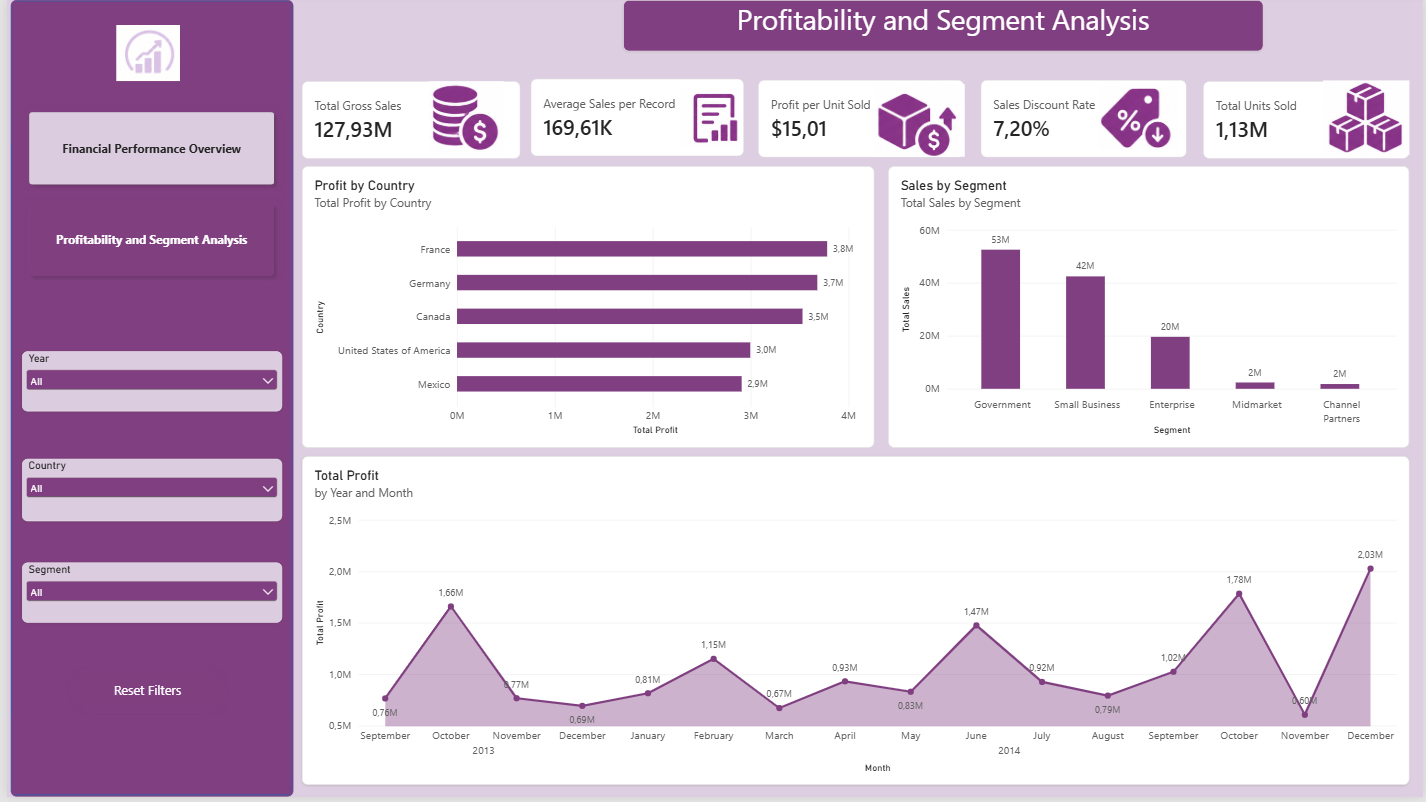

What the dashboard file says about the page in this screenshot:
{"tool":"powerbi","page":{"name":"Profitability and Segment Analysis","canvas":[1920,1080],"ordinal":1},"visuals":[{"type":"shape","box":[5.1,0,383.1,1079.7],"z":0,"group":"g1"},{"type":"cardVisual","fields":{"Data":["FinancialData.Total Gross Sales"]},"box":[400,110.2,296.6,105.1],"z":0,"group":"g2"},{"type":"cardVisual","fields":{"Data":["FinancialData.Average Sales per Record"]},"box":[710.2,106.8,289.8,105.1],"z":1,"group":"g3"},{"type":"cardVisual","fields":{"Data":["FinancialData.Profit per Unit Sold"]},"box":[1018.6,108.5,279.7,105.1],"z":2,"group":"g4"},{"type":"cardVisual","fields":{"Data":["FinancialData.Sales Discount Rate"]},"box":[1320.3,108.5,279.7,105.1],"z":3,"group":"g5"},{"type":"cardVisual","fields":{"Data":["FinancialData.Total Units Sold"]},"box":[1622,110.2,279.7,105.1],"z":4,"group":"g6"},{"type":"clusteredBarChart","title":"Profit by Country","fields":{"Category":["FinancialData.Country"],"Y":["FinancialData.Total Profit"]},"box":[400,225.4,776.3,381.4],"z":5},{"type":"clusteredColumnChart","title":"Sales by Segment","fields":{"Category":["FinancialData.Segment"],"Y":["FinancialData.Total Sales"]},"box":[1194.9,225.4,706.8,381.4],"z":6},{"type":"lineChart","fields":{"Category":["FinancialData.Date.Variation.Date Hierarchy.Year","FinancialData.Date.Variation.Date Hierarchy.Month"],"Y":["FinancialData.Total Profit"]},"box":[400,618.6,1501.7,445.8],"z":7},{"type":"textbox","box":[723.7,0,979.7,69.5],"z":8},{"type":"group","id":"g1","title":"Group 1","box":[5.1,0,383.1,1079.7],"z":9},{"type":"actionButton","box":[81.4,901.7,218.6,67.8],"z":10},{"type":"image","box":[569.5,110.2,106.8,98.3],"z":11,"group":"g2"},{"type":"group","id":"g2","title":"Group 2","box":[400,110.2,296.6,105.1],"z":12},{"type":"image","box":[913.6,115.3,83.1,88.1],"z":13,"group":"g3"},{"type":"group","id":"g3","title":"Group 3","box":[710.2,106.8,289.8,105.1],"z":14},{"type":"image","box":[1176.2,110.2,122,106.8],"z":15,"group":"g4"},{"type":"group","id":"g4","title":"Group 4","box":[1018.6,108.5,279.7,108.5],"z":16},{"type":"image","box":[1481.3,113.6,106.8,93.2],"z":17,"group":"g5"},{"type":"group","id":"g5","title":"Group 5","box":[1320.3,108.5,279.7,105.1],"z":18},{"type":"image","box":[1784.7,105.1,116.9,108.5],"z":19,"group":"g6"},{"type":"group","id":"g6","title":"Group 6","box":[1622,105.1,279.7,110.2],"z":20},{"type":"slicer","fields":{"Values":["FinancialData.Segment"]},"box":[20.4,762.7,352.5,81.4],"z":1000,"group":"g1"},{"type":"slicer","fields":{"Values":["FinancialData.Country"]},"box":[20.4,622,352.5,84.7],"z":2000,"group":"g1"},{"type":"slicer","fields":{"Values":["FinancialData.Year"]},"box":[20.4,476.3,352.5,81.4],"z":3000,"group":"g1"},{"type":"pageNavigator","box":[20.4,142.4,352.5,242.4],"z":4000,"group":"g1"},{"type":"image","box":[145.8,33.9,91.5,76.3],"z":5000,"group":"g1"}]}

Visuals, with their boxes in screenshot pixels (x1, y1, x2, y2), scaled from the page's 1920x1080 canvas onto the 1426x802 screenshot:
shape: [left=4, top=0, right=288, bottom=801]
cardVisual - FinancialData.Total Gross Sales: [left=297, top=82, right=517, bottom=160]
cardVisual - FinancialData.Average Sales per Record: [left=527, top=79, right=743, bottom=157]
cardVisual - FinancialData.Profit per Unit Sold: [left=757, top=81, right=964, bottom=159]
cardVisual - FinancialData.Sales Discount Rate: [left=981, top=81, right=1188, bottom=159]
cardVisual - FinancialData.Total Units Sold: [left=1205, top=82, right=1412, bottom=160]
"Profit by Country" clusteredBarChart: [left=297, top=167, right=874, bottom=451]
"Sales by Segment" clusteredColumnChart: [left=887, top=167, right=1412, bottom=451]
lineChart - FinancialData.Date.Variation.Date Hierarchy.Year x FinancialData.Date.Variation.Date Hierarchy.Month: [left=297, top=459, right=1412, bottom=790]
textbox: [left=537, top=0, right=1265, bottom=52]
"Group 1" group: [left=4, top=0, right=288, bottom=801]
actionButton: [left=60, top=670, right=223, bottom=720]
image: [left=423, top=82, right=502, bottom=155]
"Group 2" group: [left=297, top=82, right=517, bottom=160]
image: [left=679, top=86, right=740, bottom=151]
"Group 3" group: [left=527, top=79, right=743, bottom=157]
image: [left=874, top=82, right=964, bottom=161]
"Group 4" group: [left=757, top=81, right=964, bottom=161]
image: [left=1100, top=84, right=1179, bottom=154]
"Group 5" group: [left=981, top=81, right=1188, bottom=159]
image: [left=1326, top=78, right=1412, bottom=159]
"Group 6" group: [left=1205, top=78, right=1412, bottom=160]
slicer - FinancialData.Segment: [left=15, top=566, right=277, bottom=627]
slicer - FinancialData.Country: [left=15, top=462, right=277, bottom=525]
slicer - FinancialData.Year: [left=15, top=354, right=277, bottom=414]
pageNavigator: [left=15, top=106, right=277, bottom=286]
image: [left=108, top=25, right=176, bottom=82]
